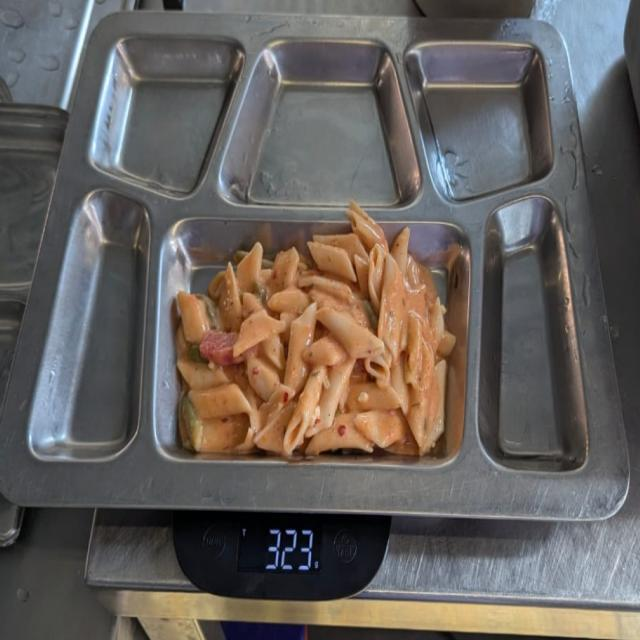Pasta: (173, 202, 459, 463)
